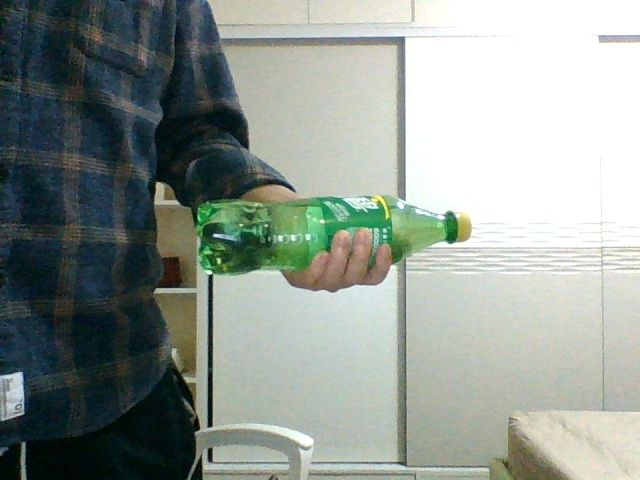Sprite: (195, 195, 473, 277)
